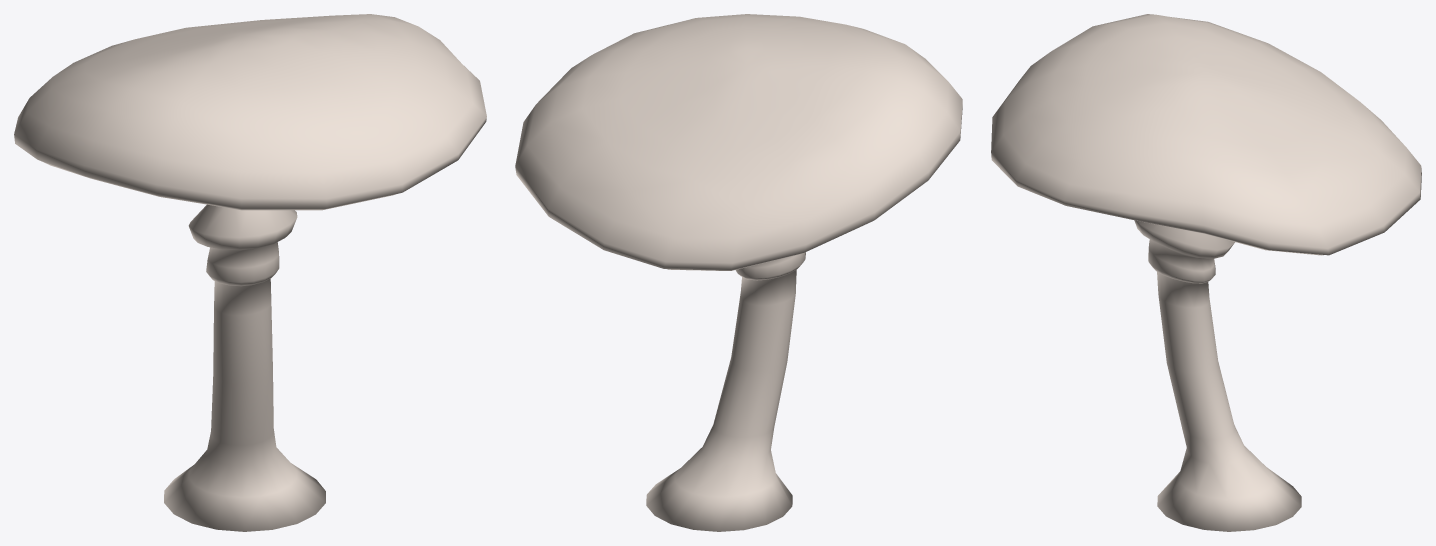
File: Mushrooms_01.fbx
3 views of the same model, side by side, from view 1: azimuth 30°, elevation 25°; view 2: azimuth 150°, elevation 25°; view 3: azimuth 270°, elevation 25° (orthographic). The views are drawn at different scales.
Visible parts, largest first — view 1: Mushroom_01_MP; view 2: Mushroom_01_MP; view 3: Mushroom_01_MP.
Part boxes in pixels (bbox=[...]): Mushroom_01_MP: bbox=[14, 14, 486, 531]; Mushroom_01_MP: bbox=[515, 14, 962, 531]; Mushroom_01_MP: bbox=[991, 14, 1421, 531].
Bounding box in the file's own units: 15.86 × 17.66 × 16.09.
